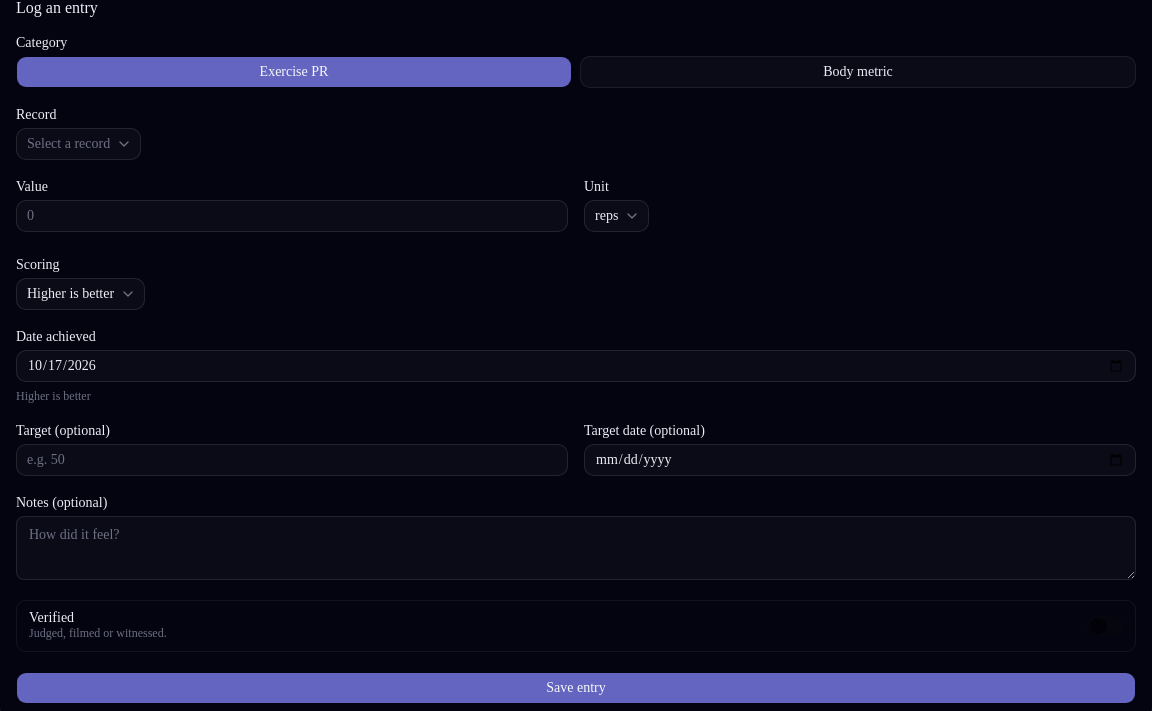
PersonalBestForm › blocks submission and explains what is missing
(page scrolled)
Click the button "Save entry": (576, 688) [16,672,1136,704]
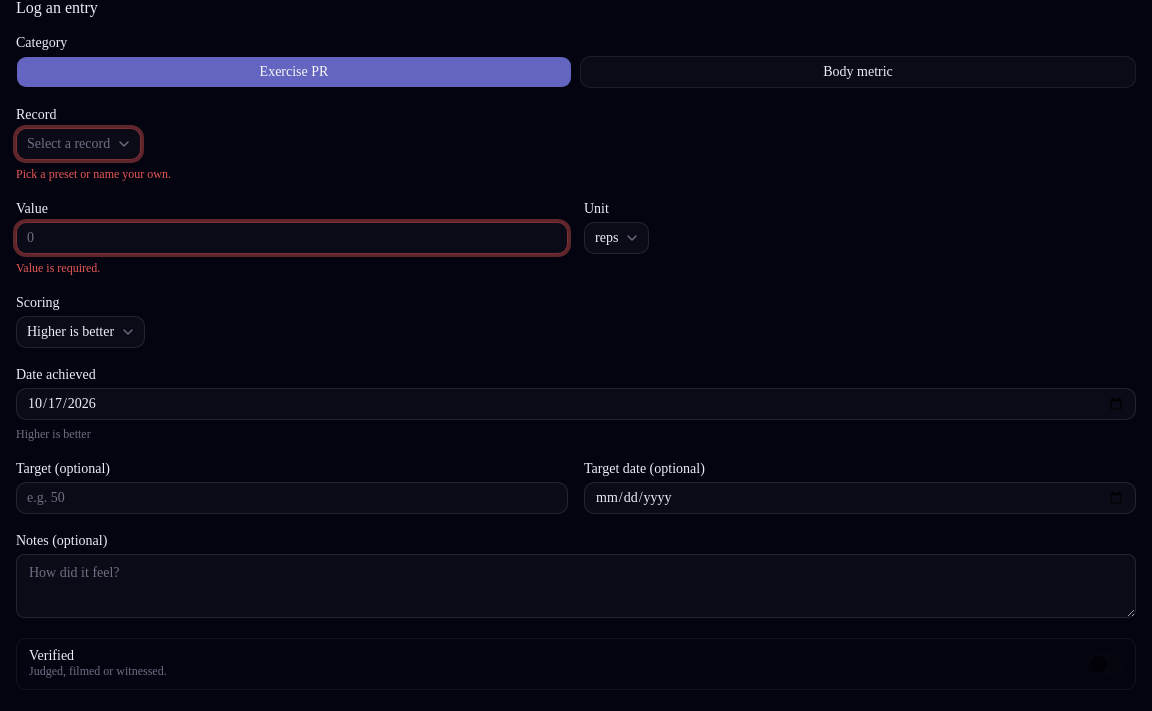
Check: the text "Pick a preset or name your own." is shown, box [16,167,171,181]
Check: the text "Value is required." is shown, box [16,261,100,275]
